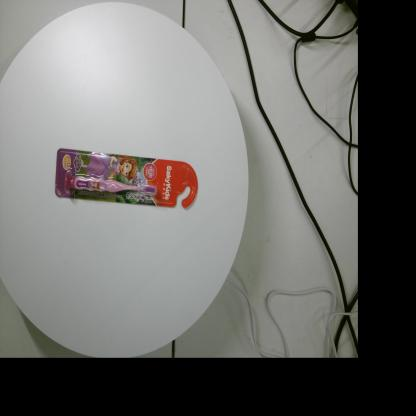Personal Hygiene: (55, 148, 198, 208)
